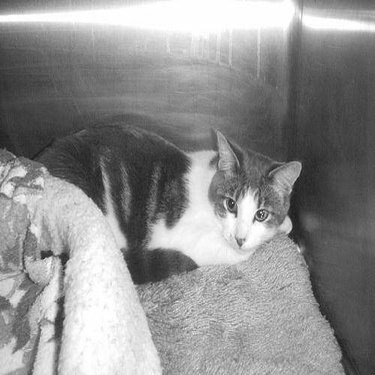cat: (19, 102, 309, 293)
